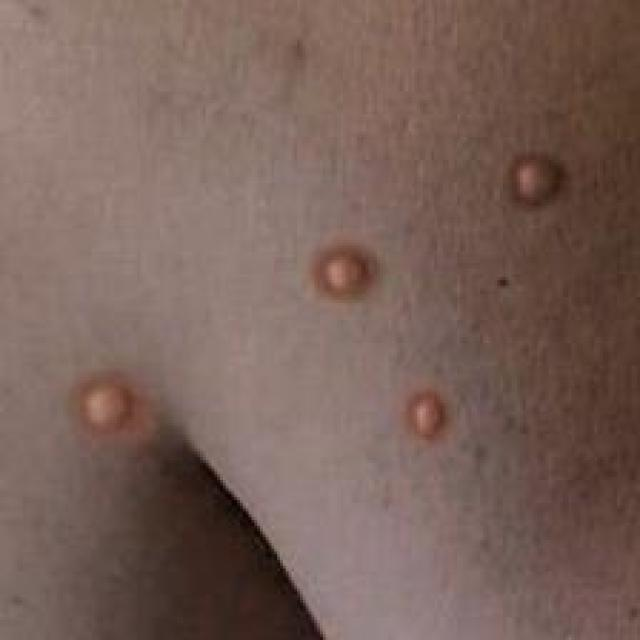monkeypox: (11, 52, 640, 637)
